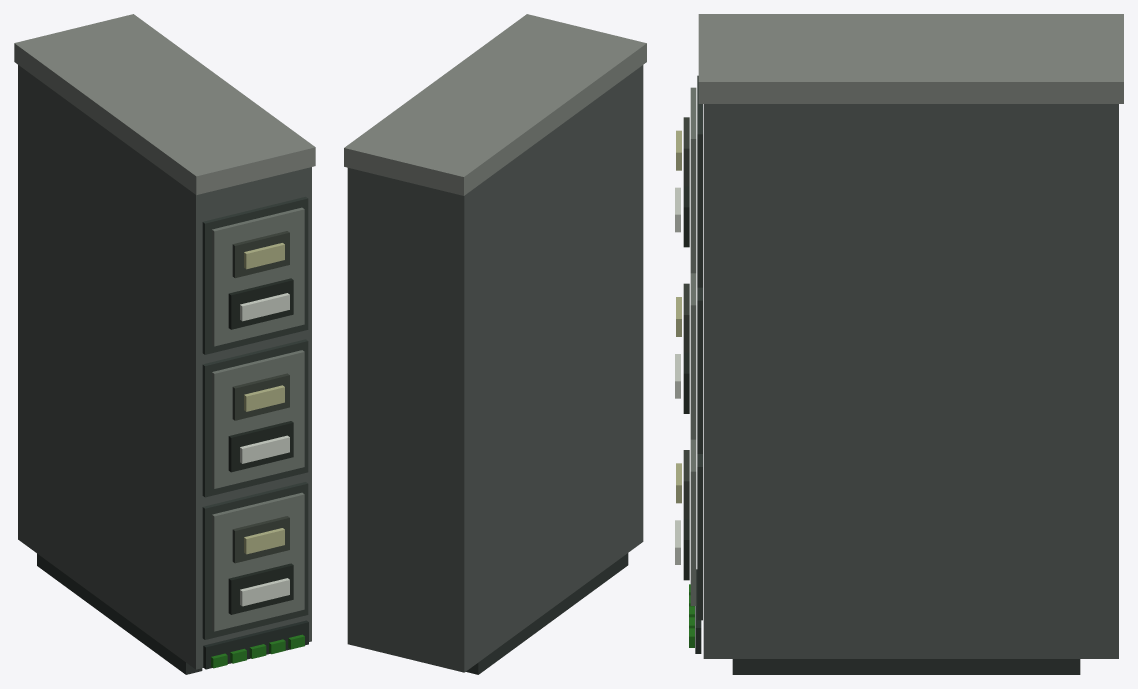
Rendered from CMU3DNarrowFilingCabinet.glb.
3 renders of one model, left to right at view 1: azimuth 30°, elevation 25°; view 2: azimuth 150°, elevation 25°; view 3: azimuth 270°, elevation 25°, orthographic. The views are drawn at different scales.
Parts seen in each view (by area): view 1: filing cabinet shell, top overhang, drawer face (×3), drawer dark border (×3), recessed pull (×3), label holder (×3), pale drawer pull (×3), olive paper label (×3), cabinet foot, lower foot shadow; view 2: filing cabinet shell, top overhang, cabinet foot; view 3: filing cabinet shell, top overhang, cabinet foot, drawer face (×3), drawer dark border (×3).
Part boxes in pixels (box(x1,y1,x2,y2)): filing cabinet shell: box(18, 65, 311, 669); top overhang: box(14, 14, 315, 194); drawer face (×3): box(212, 207, 304, 631); drawer dark border (×3): box(202, 196, 308, 639); recessed pull (×3): box(228, 278, 293, 614); label holder (×3): box(232, 231, 289, 563); pale drawer pull (×3): box(240, 293, 289, 606); olive paper label (×3): box(244, 243, 284, 554); cabinet foot: box(37, 553, 202, 674); lower foot shadow: box(203, 620, 308, 669); filing cabinet shell: box(347, 65, 643, 672); top overhang: box(344, 14, 646, 195); cabinet foot: box(466, 553, 628, 674); filing cabinet shell: box(703, 104, 1118, 658); top overhang: box(698, 14, 1123, 103); cabinet foot: box(732, 659, 1080, 674); drawer face (×3): box(690, 87, 696, 605); drawer dark border (×3): box(697, 75, 702, 620).
Bounding box in the file's own units: 0.333 × 1.36 × 0.929.
